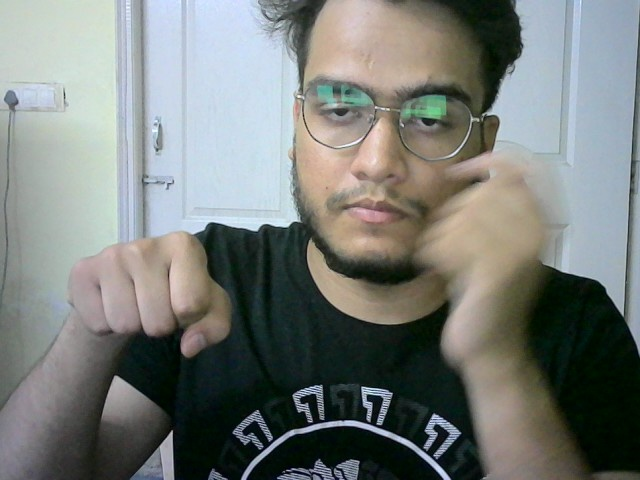Yes: (50, 224, 248, 369)
